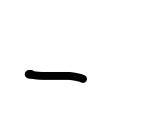minus: (24, 70, 87, 83)
